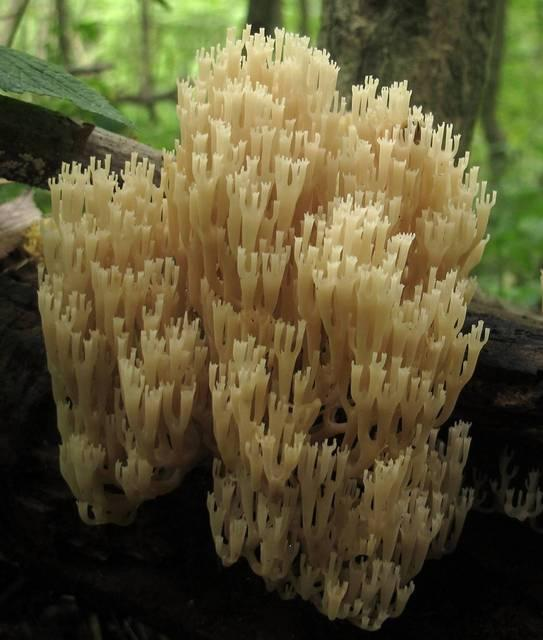edible_mushroom: (33, 22, 498, 631)
